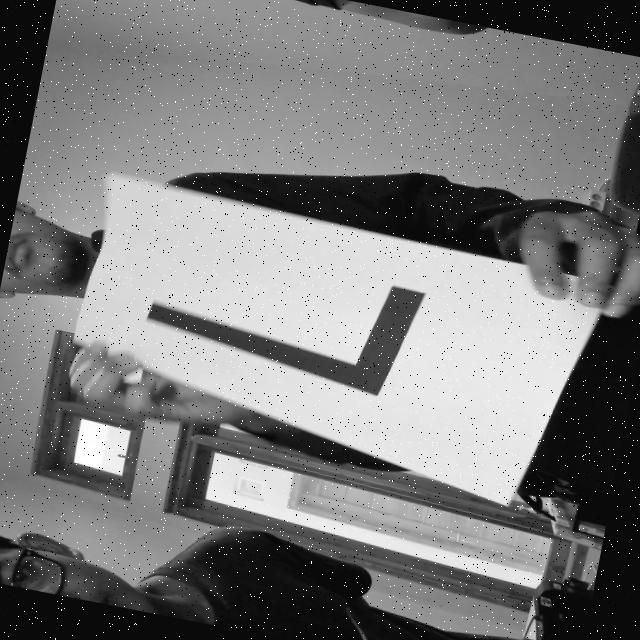l: (116, 218, 444, 414)
